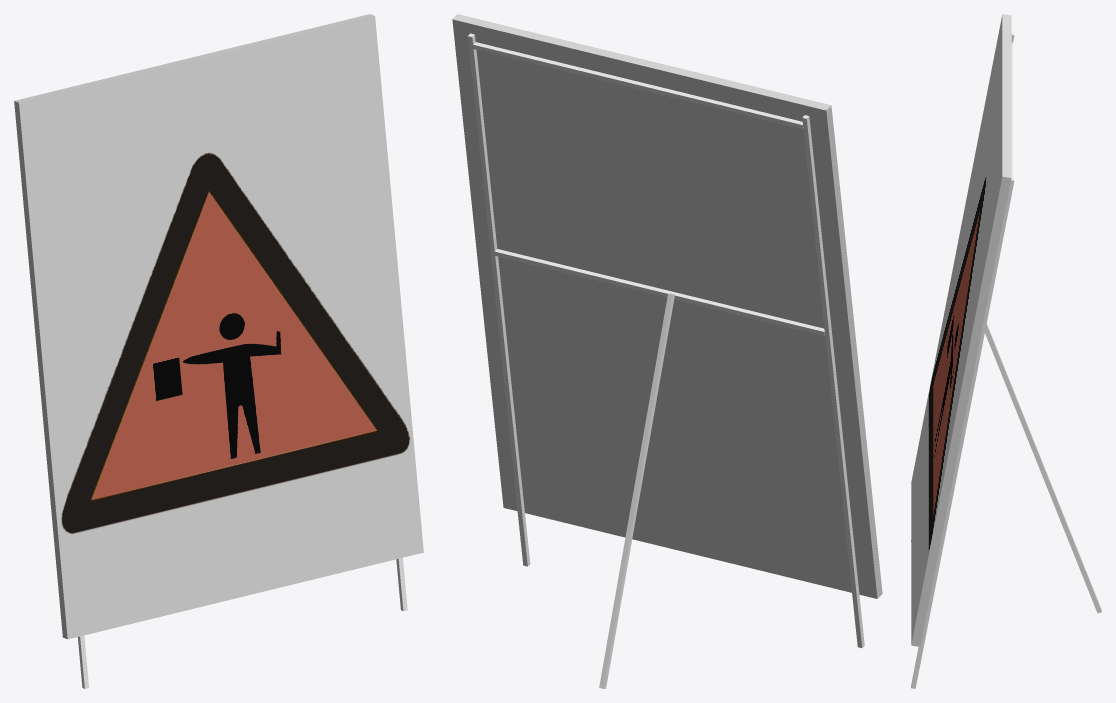
File: 正在施工-B.glb
The picture shows the model from 3 angles, left to right: view 1: azimuth 30°, elevation 25°; view 2: azimuth 150°, elevation 25°; view 3: azimuth 270°, elevation 25°; orthographic projection. The views are drawn at different scales.
Parts seen in each view (by area): view 1: 立方体-材质.3, 立方体-材质.5; view 2: 立方体-材质.5, 立方体.4, 立方体.3, 立方体.7, 立方体.5, 立方体.6; view 3: 立方体-材质.3, 立方体-材质.5, 立方体.3, 立方体.7.
Part boxes in pixels (x1,y1,x2,y2): 立方体-材质.3: (19,16,423,639); 立方体-材质.5: (14,14,374,639); 立方体-材质.5: (452,14,882,598); 立方体.4: (802,115,864,647); 立方体.3: (468,33,530,566); 立方体.7: (599,293,674,688); 立方体.5: (469,42,803,129); 立方体.6: (491,249,824,336); 立方体-材质.3: (911,15,1002,643); 立方体-材质.5: (911,14,1011,646); 立方体.3: (911,178,1014,688); 立方体.7: (985,323,1101,613).
Size of the model in its own units: 5.71 by 8.56 by 2.83.
Materials: 3 (1 with a texture image).
